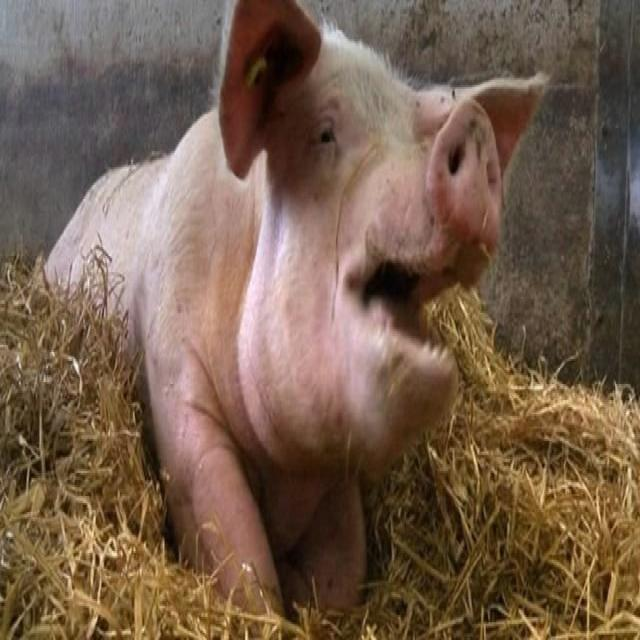pig: (45, 0, 548, 608)
